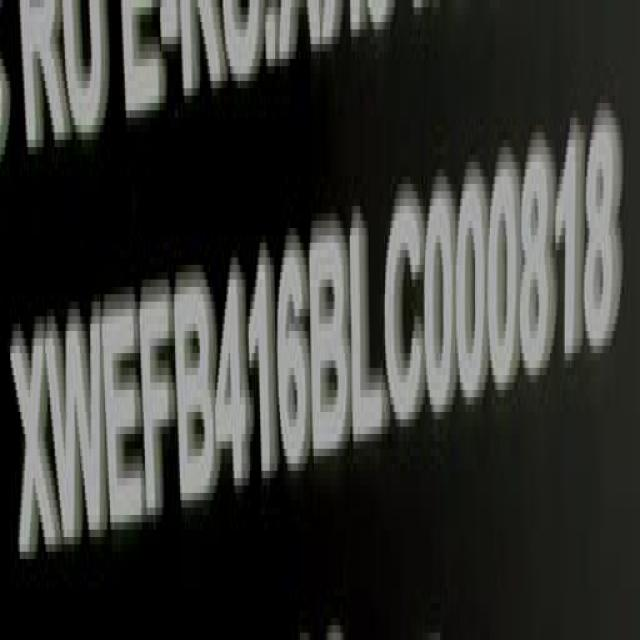0: (488, 144, 521, 393), (424, 172, 457, 417), (456, 165, 489, 406)
1: (553, 117, 580, 374), (252, 248, 277, 490)
4: (215, 261, 249, 501)
6: (277, 234, 310, 482)
8: (585, 101, 624, 358), (519, 133, 554, 381)
B: (309, 213, 348, 467), (180, 266, 218, 516)
C: (387, 188, 427, 436)
E: (105, 291, 145, 540)
F: (140, 280, 174, 548)
L: (350, 197, 387, 453)
W: (49, 303, 108, 559)
X: (11, 322, 54, 568)
